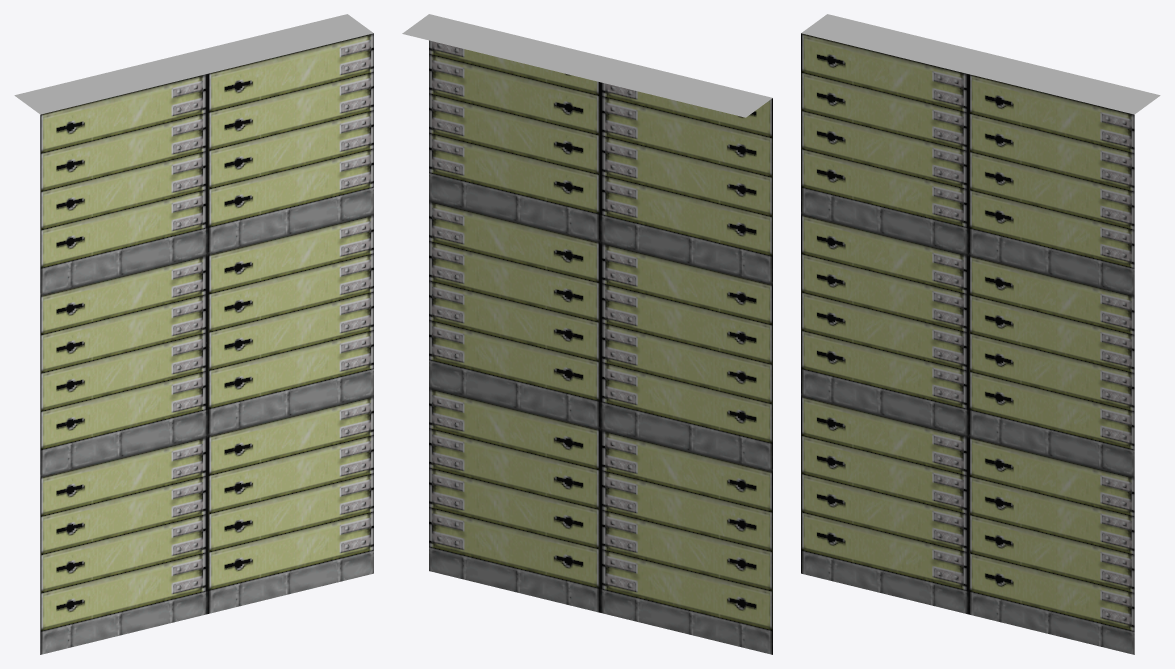
The model's file is W_I2_x [Schließfächer]_138.glb.
3 views of the same model, side by side, from view 1: azimuth 30°, elevation 25°; view 2: azimuth 150°, elevation 25°; view 3: azimuth 330°, elevation 25° (orthographic). The views are drawn at different scales.
Visible parts, largest first — view 1: pPlaneShape3, pPlaneShape1; view 2: pPlaneShape3, pPlaneShape1; view 3: pPlaneShape3, pPlaneShape1.
Part boxes in pixels (x1,y1,x2,y2): pPlaneShape3: (40,33,373,654); pPlaneShape1: (14,14,373,114); pPlaneShape3: (429,40,772,654); pPlaneShape1: (402,14,772,117); pPlaneShape3: (801,33,1134,654); pPlaneShape1: (801,14,1160,114).
Size of the model in its own units: 0.2252 by 0.3486 by 0.0308.
Materials: 2 (1 with a texture image).
